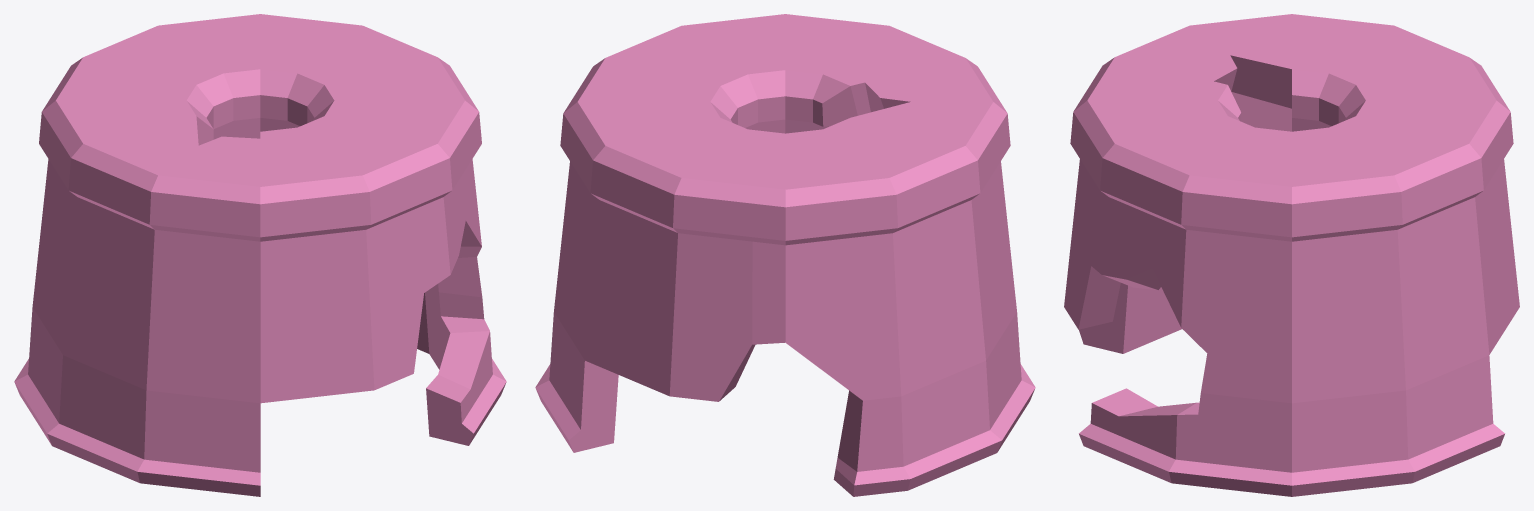
The model's file is Trash_Kursi_01.fbx.
3 views of the same model, side by side, from view 1: azimuth 30°, elevation 25°; view 2: azimuth 150°, elevation 25°; view 3: azimuth 270°, elevation 25° (orthographic).
Parts seen in each view (by area): view 1: KursiPlastik_00; view 2: KursiPlastik_00; view 3: KursiPlastik_00.
Part boxes in pixels (bbox=[...]): KursiPlastik_00: bbox=[14, 14, 506, 496]; KursiPlastik_00: bbox=[535, 14, 1035, 496]; KursiPlastik_00: bbox=[1064, 14, 1519, 496].
Bounding box in the file's own units: 17.51 × 11.56 × 16.21.
